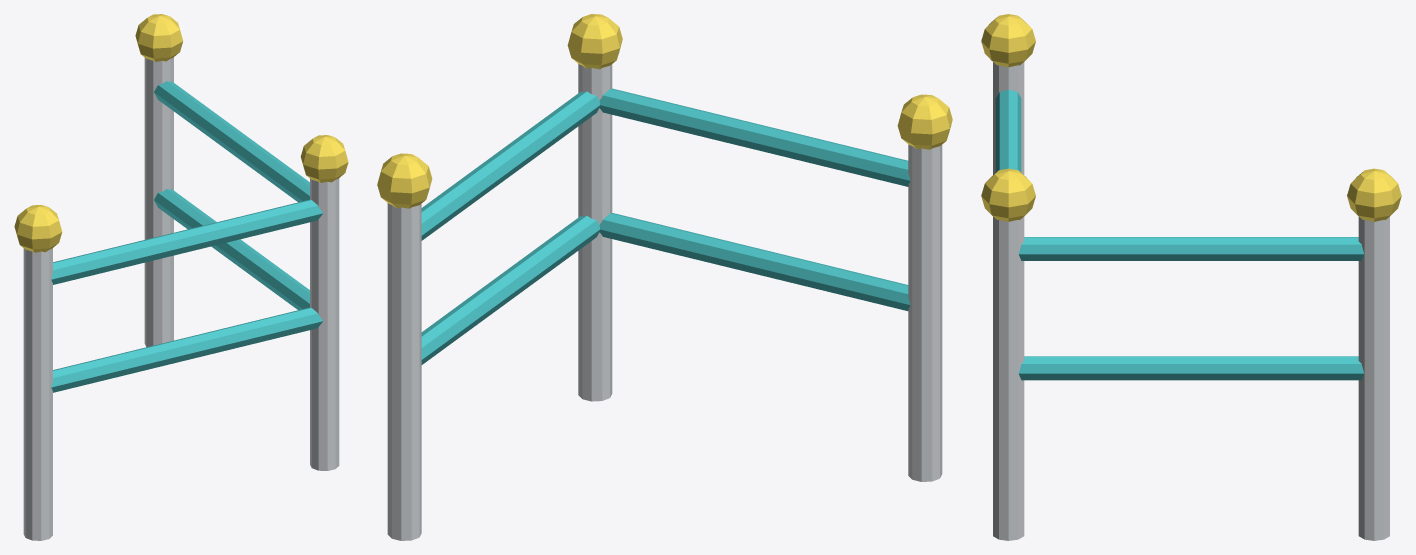
Rendered from theme-park-rides-and-coasters-theme-park-rides-and-coa-f2b6a4b5__28667.glb.
3 views of the same model, side by side, from view 1: azimuth 30°, elevation 25°; view 2: azimuth 150°, elevation 25°; view 3: azimuth 270°, elevation 25° (orthographic). The views are drawn at different scales.
Parts seen in each view (by area): view 1: theme-park-rides-and-coasters-queue-rail-corner; view 2: theme-park-rides-and-coasters-queue-rail-corner; view 3: theme-park-rides-and-coasters-queue-rail-corner.
Part boxes in pixels (x1=…): theme-park-rides-and-coasters-queue-rail-corner: x1=14, y1=14, x2=348, y2=540; theme-park-rides-and-coasters-queue-rail-corner: x1=377, y1=14, x2=952, y2=540; theme-park-rides-and-coasters-queue-rail-corner: x1=981, y1=14, x2=1401, y2=540.
Bounding box in the file's own units: 1.15 × 1.09 × 1.15.
